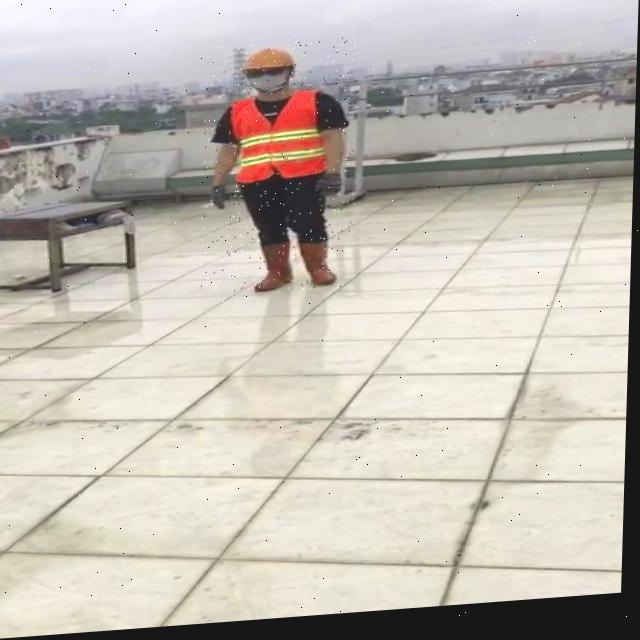Gloves: (317, 175, 343, 197), (211, 188, 229, 214)
Helmet: (241, 49, 297, 99)
Safety-Boot: (256, 242, 297, 296), (301, 241, 340, 292)
Safety-Vest: (212, 91, 347, 190)
